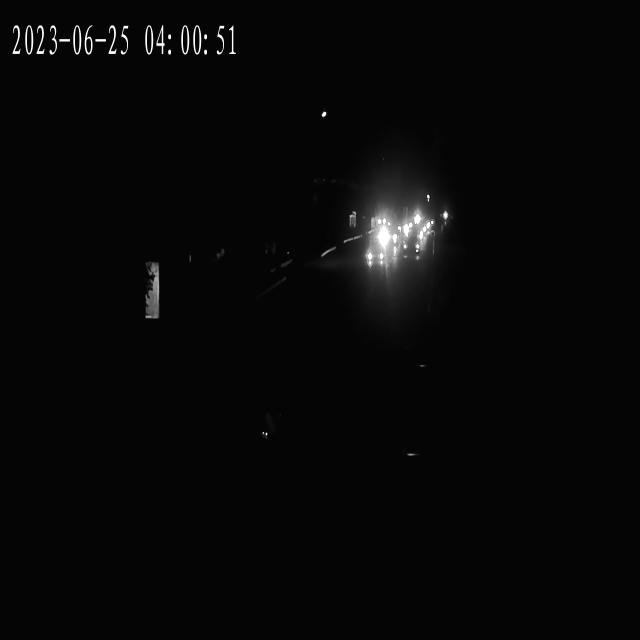Car: (363, 239, 390, 264), (398, 233, 426, 257), (363, 244, 388, 266), (393, 219, 413, 235), (371, 215, 391, 228)
